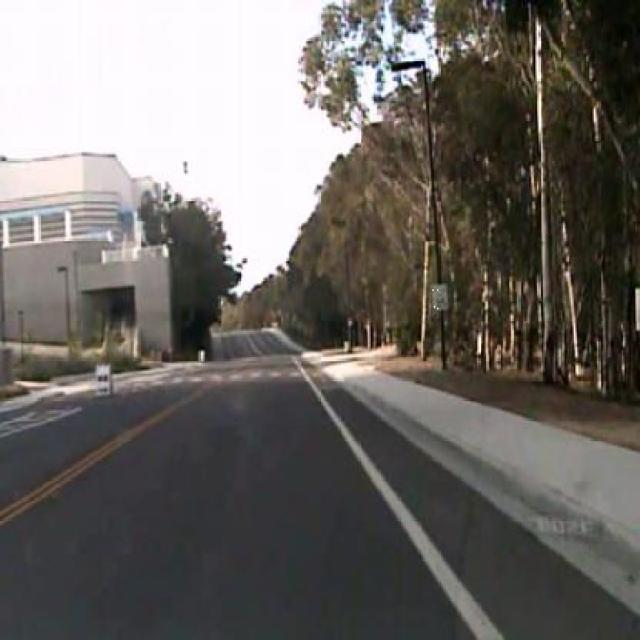speedLimit35: (430, 283, 448, 311)
